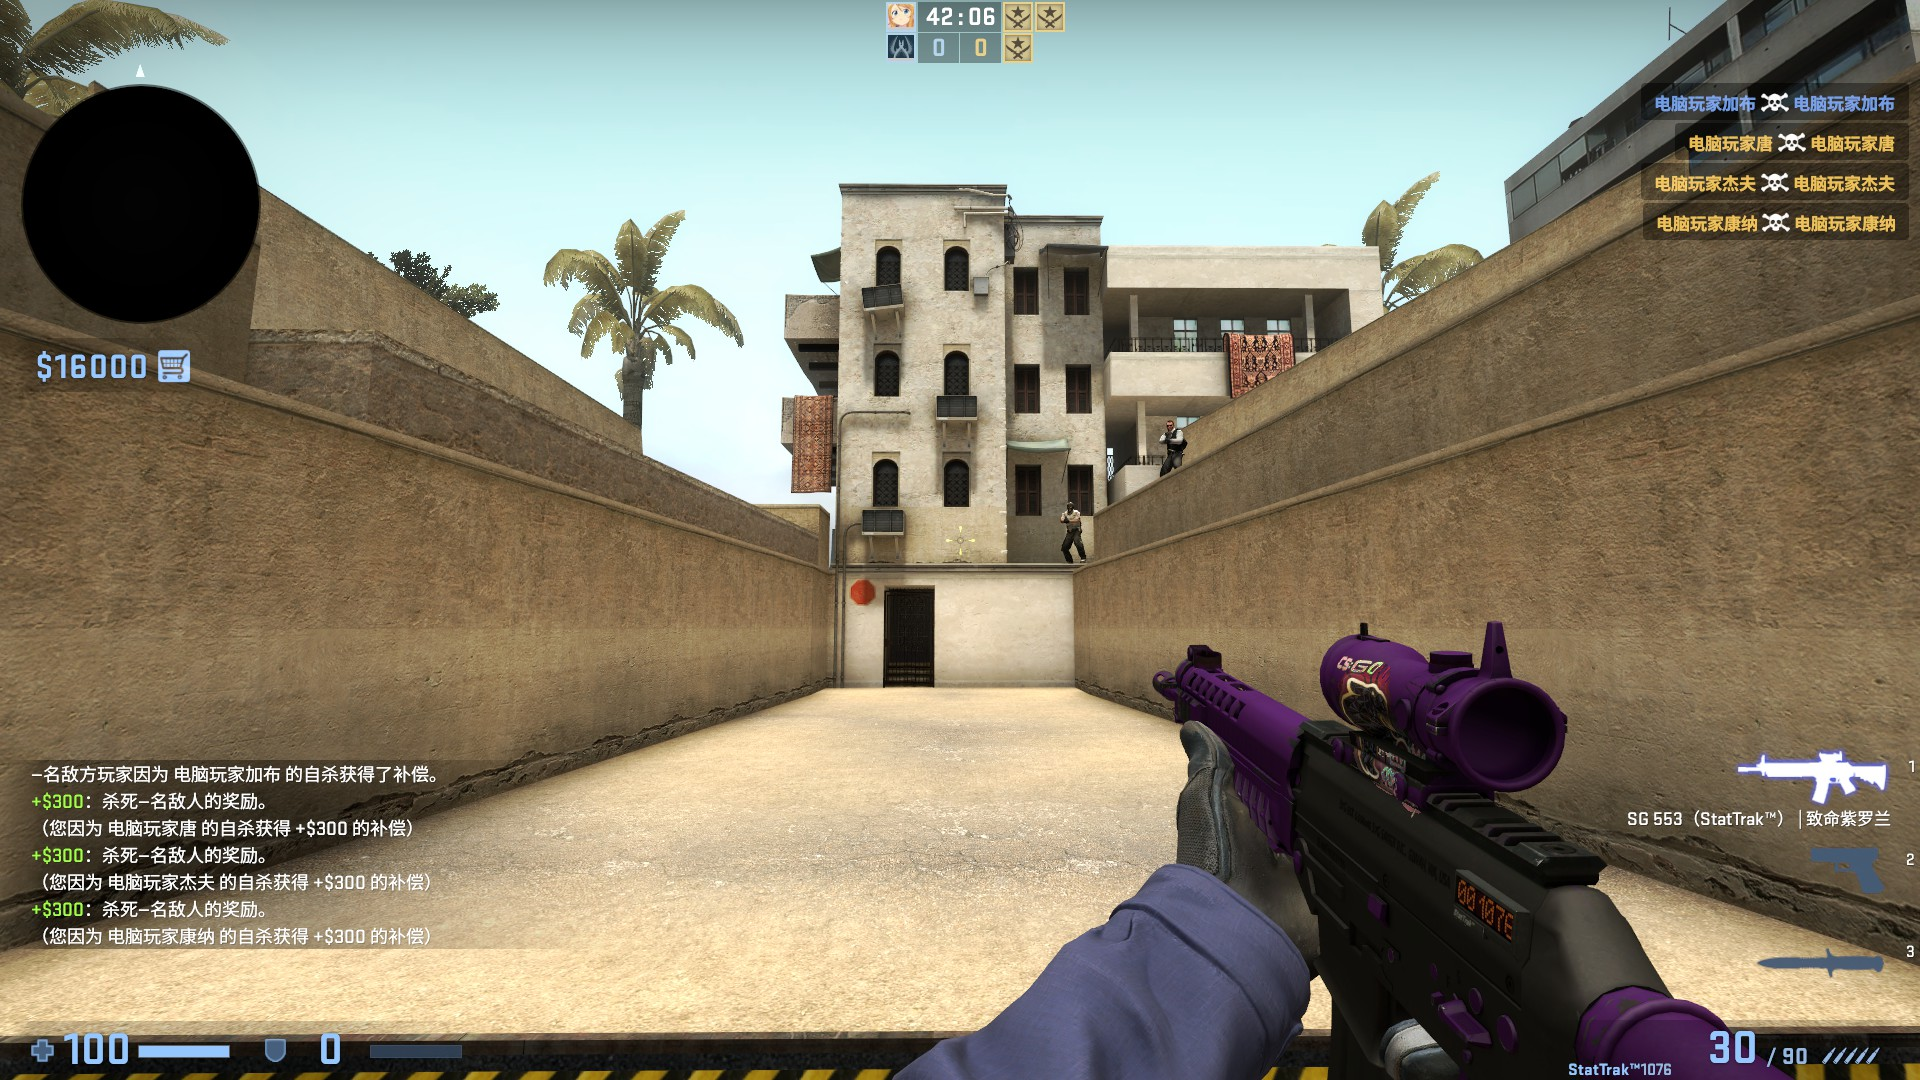head: (1064, 501, 1074, 513), (1164, 419, 1173, 430)
